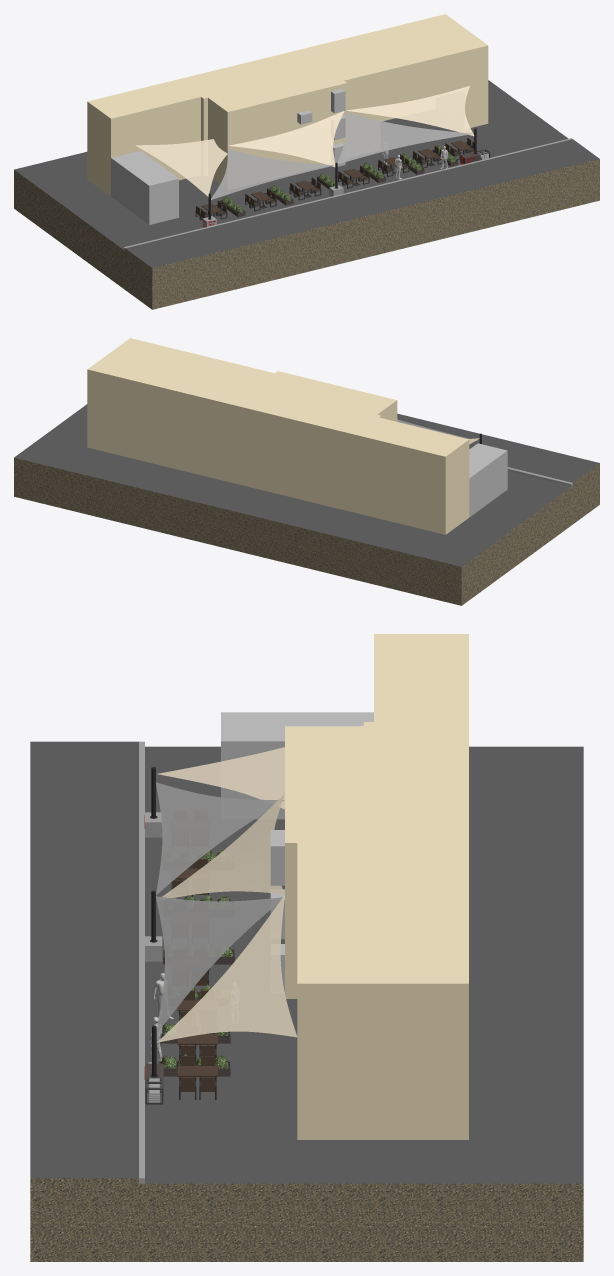
The picture shows the model from 3 angles, top to bottom: view 1: azimuth 30°, elevation 25°; view 2: azimuth 150°, elevation 25°; view 3: azimuth 270°, elevation 25°; orthographic projection. The views are drawn at different scales.
Parts seen in each view (by area): view 1: Line001, Box003, Object002_Sand_0, Box001, Line006, Line007, Line005, Line004, Line003, Object003_Concrete_0; view 2: Line001, Object002_Sand_0, Box003, Box001; view 3: Box003, Line001, Object002_Sand_0, Line007, Line006, Line004, Line005, Box001, Line003, Object003_Concrete_0.
Part boxes in pixels (bbox=[...]): Line001: bbox=[87, 14, 488, 196]; Box003: bbox=[14, 80, 599, 267]; Object002_Sand_0: bbox=[14, 159, 599, 309]; Box001: bbox=[111, 150, 178, 224]; Line006: bbox=[337, 112, 473, 164]; Line007: bbox=[346, 86, 474, 136]; Line005: bbox=[228, 111, 344, 166]; Line004: bbox=[211, 149, 334, 199]; Line003: bbox=[135, 139, 227, 196]; Object003_Concrete_0: bbox=[123, 138, 572, 250]; Line001: bbox=[87, 338, 469, 534]; Object002_Sand_0: bbox=[14, 457, 599, 605]; Box003: bbox=[14, 404, 599, 566]; Box001: bbox=[469, 443, 507, 517]; Box003: bbox=[30, 741, 583, 1183]; Line001: bbox=[285, 634, 468, 1139]; Object002_Sand_0: bbox=[30, 1178, 583, 1261]; Line007: bbox=[157, 895, 297, 1042]; Line006: bbox=[155, 896, 282, 1033]; Line004: bbox=[155, 782, 284, 895]; Line005: bbox=[162, 794, 284, 897]; Box001: bbox=[221, 712, 373, 819]; Line003: bbox=[157, 725, 363, 809]; Object003_Concrete_0: bbox=[139, 741, 144, 1183].
Bounding box in the file's own units: 35.98 × 9 × 19.25.
18 materials, 4 textured.
